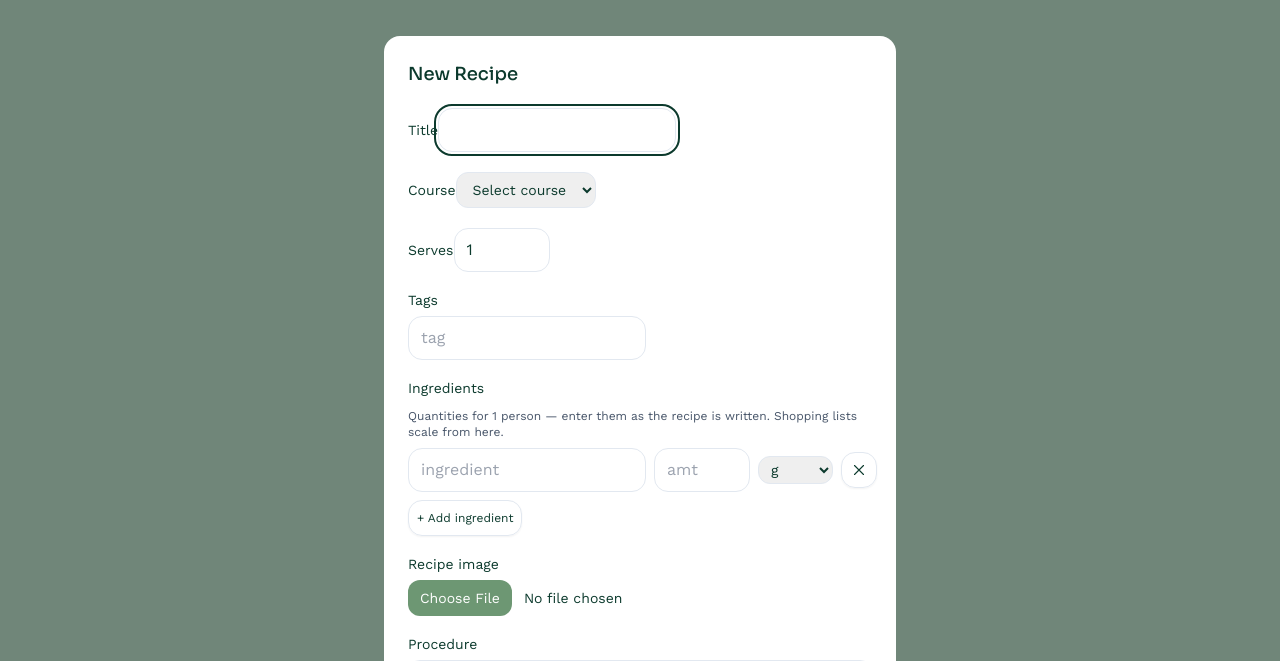
Test case: loadIngredients and loadTags replace the user sources when passed
Focus the field with placeholder "ingredient" at (527, 470), box x1=408 y1=448 x2=646 y2=492
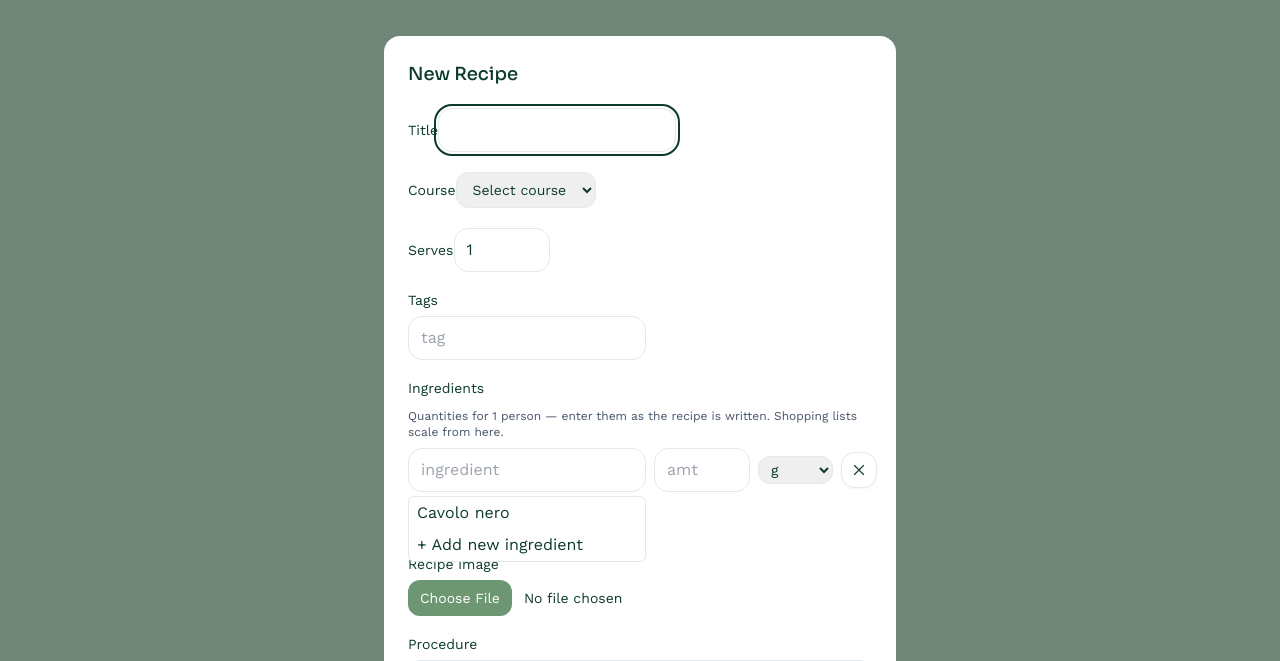
Result: the text "Cavolo nero" is shown at x1=417 y1=503 x2=510 y2=522
Focus the field with placeholder "tag" at (527, 338), box x1=408 y1=316 x2=646 y2=360
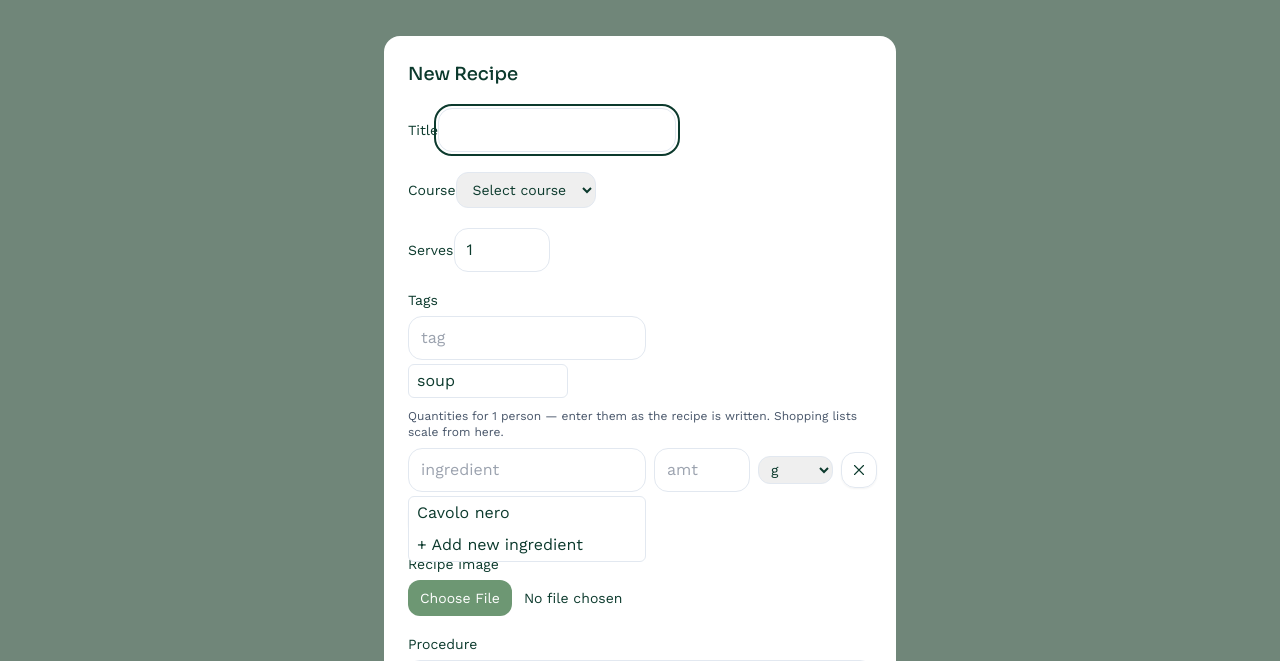
Result: the text "soup" is shown at x1=417 y1=371 x2=455 y2=390
